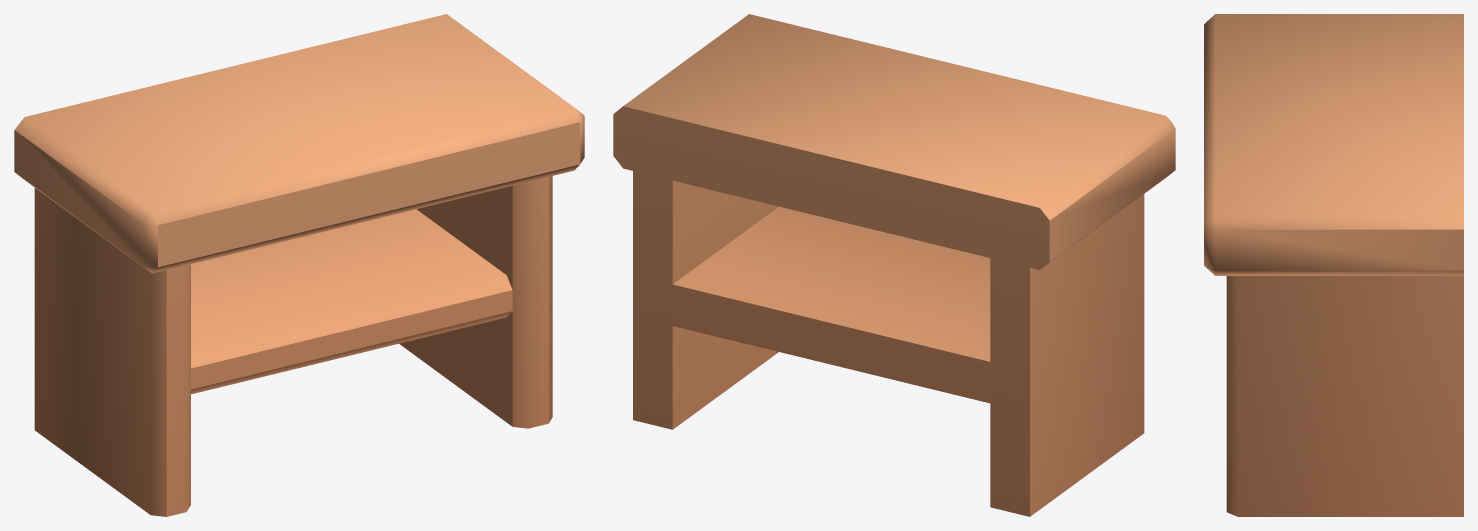
File: countertop-closet-b-large.glb
3 views of the same model, side by side, from view 1: azimuth 30°, elevation 25°; view 2: azimuth 150°, elevation 25°; view 3: azimuth 270°, elevation 25° (orthographic). The views are drawn at different scales.
Parts seen in each view (by area): view 1: countertop_closet_B_large; view 2: countertop_closet_B_large; view 3: countertop_closet_B_large.
Boxes of the visible parts, x1,y1,x2,y2 form: countertop_closet_B_large: [14, 14, 584, 516]; countertop_closet_B_large: [613, 14, 1175, 516]; countertop_closet_B_large: [1204, 14, 1463, 516].
Bounding box in the file's own units: 2.2 × 1.5 × 1.15.
Materials: 1 (1 with a texture image).
